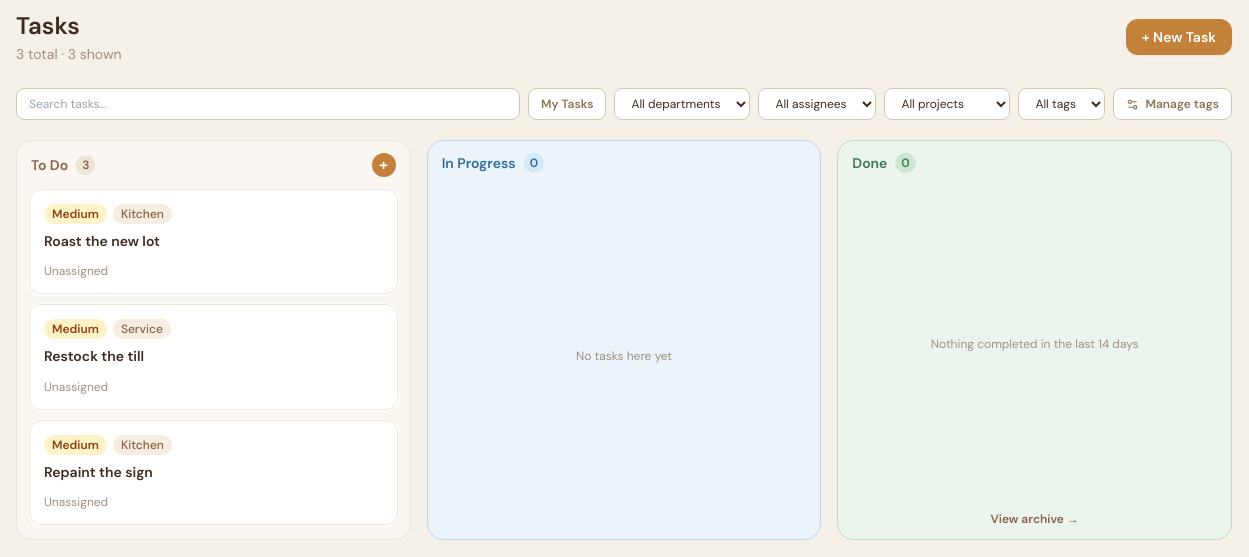
Scenario: project 筛选跟既有筛选是 AND,不是取代 › stacking the department filter on top narrows the project-filtered set further, not replaces it
This screenshot has width=1249, height=557.
Expected: the element with test id "task-card-kitchen-task" is shown, 29,189 -> 398,294
Select "Bean Sourcing" in the 3rd dropdown showing "All projects" at (947, 104), box 884,88 -> 1010,120
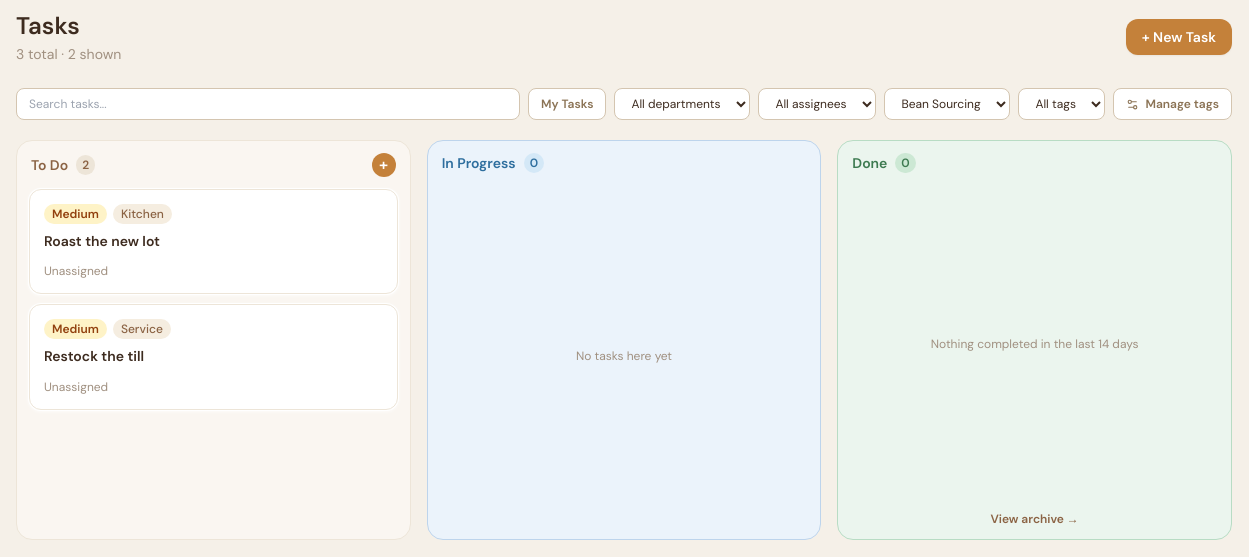
Select "Kitchen" in the 1st dropdown showing "All departments" at (682, 104), box 614,88 -> 750,120
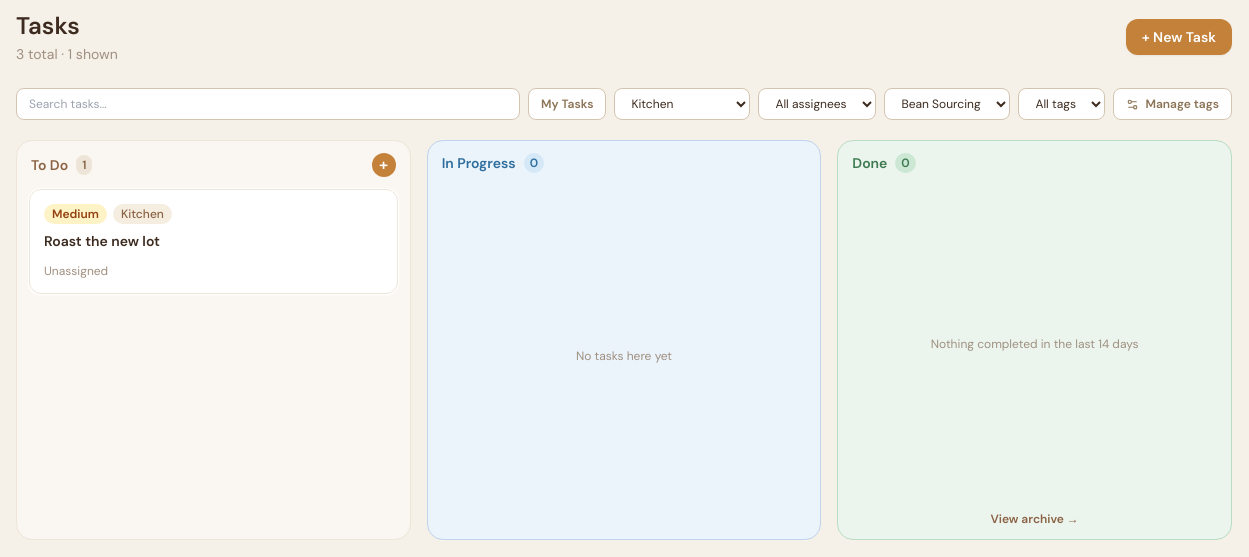
Expected: the text "Roast the new lot" is shown, 44,232 -> 160,250
Expected: the text "Restock the till" is gone
